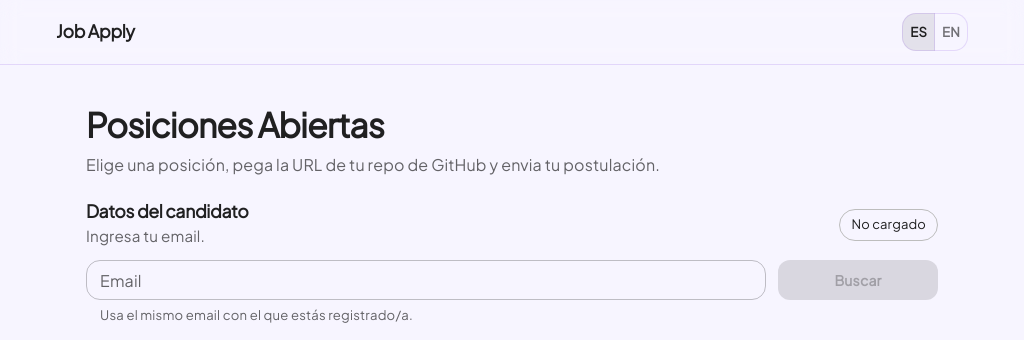
Scenario: toggles language ES/EN and updates header text
Expected: the heading "Posiciones Abiertas" is shown, x1=86 y1=103 x2=384 y2=145
Click the button "EN" at {"x": 951, "y": 32}, box x1=934 y1=13 x2=968 y2=51
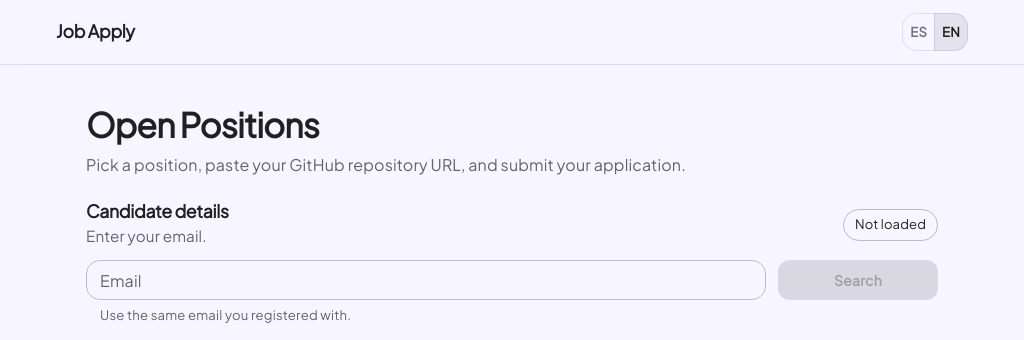
Now the heading "Open Positions" is shown, box x1=86 y1=103 x2=319 y2=145
Click the button "ES" at {"x": 919, "y": 32}, box x1=902 y1=13 x2=935 y2=51
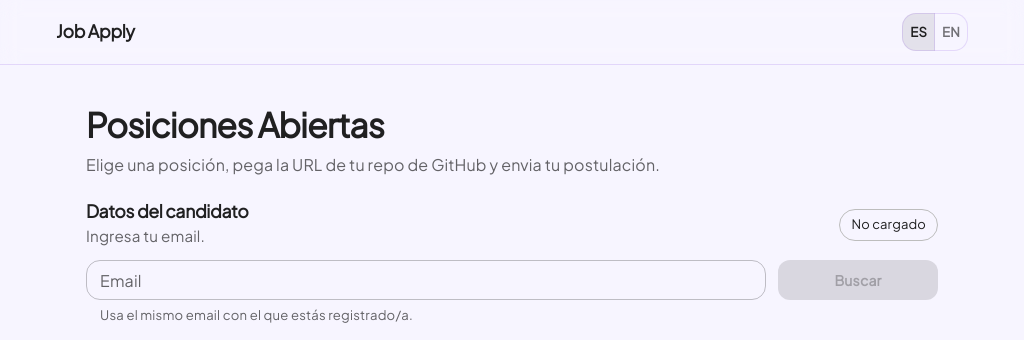
Now the heading "Posiciones Abiertas" is shown, box x1=86 y1=103 x2=384 y2=145
